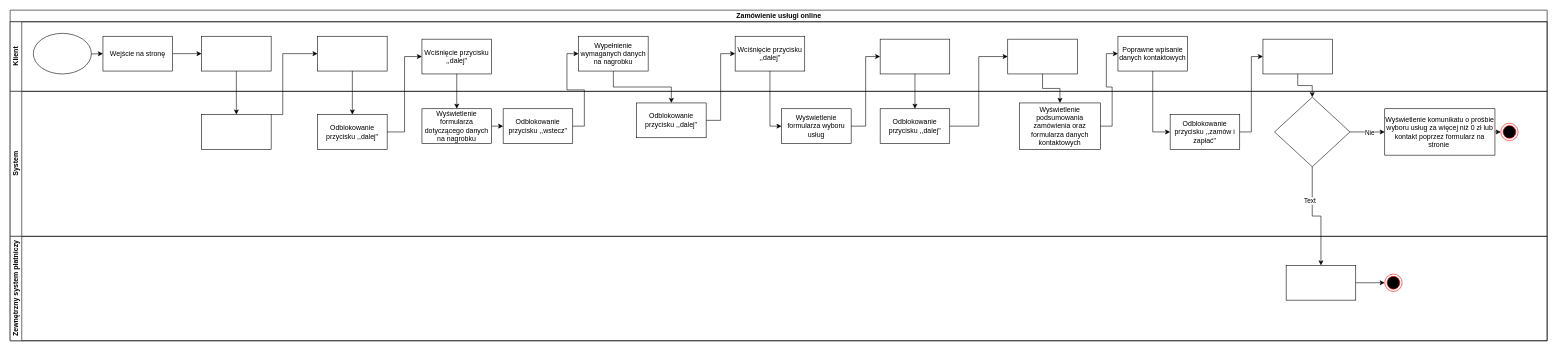
The diagram is 1557 pixels wide and 351 high, and some of its shapes have lost their labels. The centre of each missing label's shape, as x and y in pixels:
Czy cena zamówienia jest większa niż 0?: [1312,132]
Klikniecie przycisku ,,dalej": [1042,56]
Kliknięcie przycisku ,, Zamów usługę": [236,53]
Kliknięcie przycisku ,,zamów i zapłać": [1297,56]
Odesłanie do strony elektronicznej płatności: [1321,282]
Start: [62,53]
Wypełnienie wymaganych danych lokalizacji nagrobka: [352,53]
Wyświetlenie formularza dotyczącego lokalizacji grobu: [236,131]
Zaznaczenie przynajmniej jednej usługi: [915,56]
